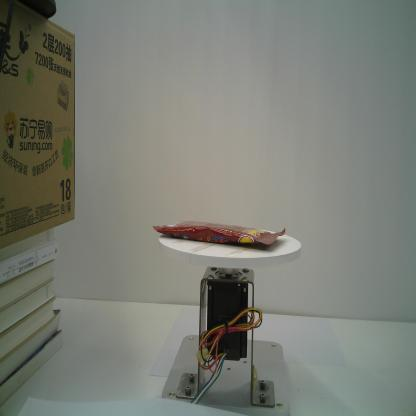Candy: (152, 220, 286, 249)
